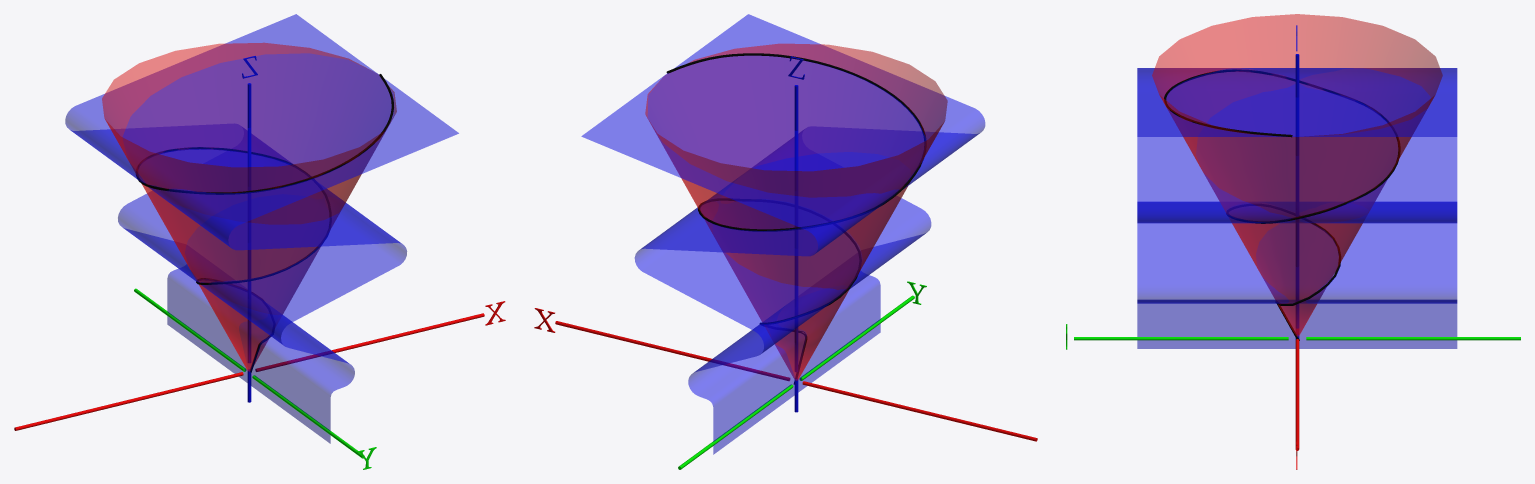
Rendered from Conico Exp.fbx.
3 views of the same model, side by side, from view 1: azimuth 30°, elevation 25°; view 2: azimuth 150°, elevation 25°; view 3: azimuth 270°, elevation 25° (orthographic). The views are drawn at different scales.
Parts seen in each view (by area): view 1: polySurface2, polySurface1, eje-X.1, polySurface3, eje-Y.1, eje-Z.1; view 2: polySurface2, polySurface1, polySurface3, eje-X.1, eje-Y.1, eje-Z.1; view 3: polySurface2, polySurface1, polySurface3, eje-Y.1, eje-Z.1, eje-X.1.
Part boxes in pixels (x1=…): polySurface2: x1=65, y1=14, x2=458, y2=443; polySurface1: x1=102, y1=42, x2=396, y2=371; eje-X.1: x1=14, y1=313, x2=484, y2=430; polySurface3: x1=136, y1=74, x2=393, y2=372; eje-Y.1: x1=134, y1=288, x2=364, y2=458; eje-Z.1: x1=247, y1=83, x2=251, y2=402; polySurface2: x1=581, y1=14, x2=985, y2=454; polySurface1: x1=645, y1=43, x2=947, y2=380; polySurface3: x1=666, y1=53, x2=926, y2=384; eje-X.1: x1=555, y1=321, x2=1037, y2=441; eje-Y.1: x1=678, y1=295, x2=914, y2=469; eje-Z.1: x1=794, y1=85, x2=798, y2=412; polySurface2: x1=1137, y1=68, x2=1457, y2=348; polySurface1: x1=1152, y1=14, x2=1442, y2=336; polySurface3: x1=1164, y1=69, x2=1400, y2=340; eje-Y.1: x1=1074, y1=337, x2=1520, y2=340; eje-Z.1: x1=1295, y1=54, x2=1299, y2=339; eje-X.1: x1=1295, y1=339, x2=1299, y2=450.
Size of the model in its own units: 269 by 181 by 220.
